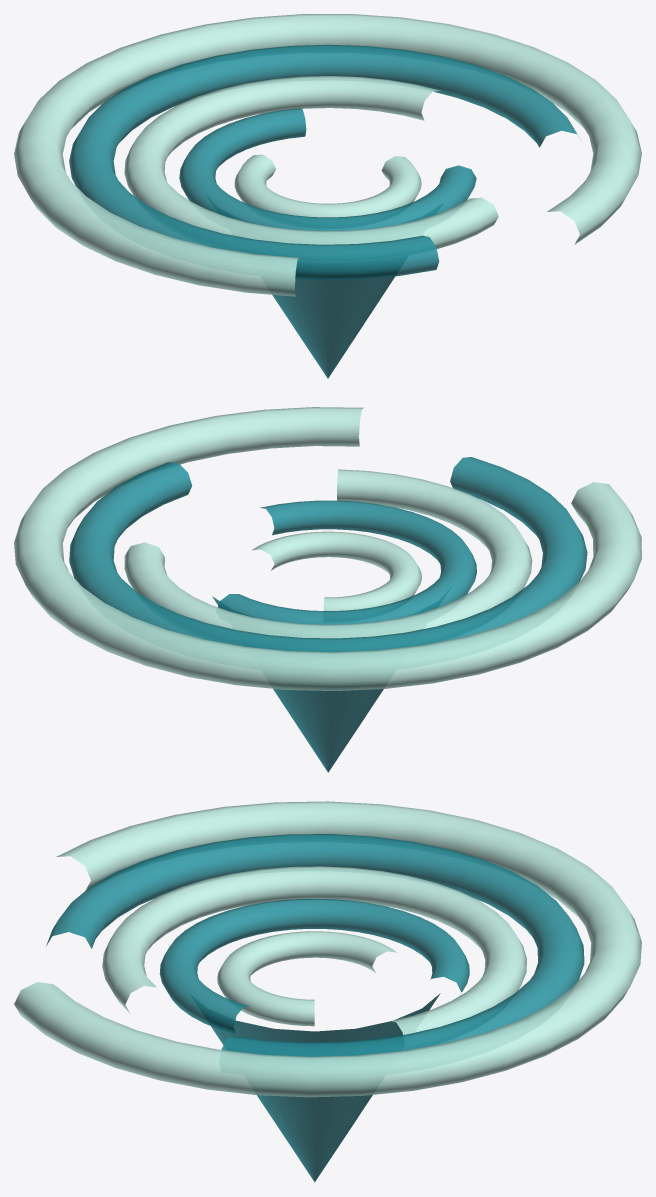
The model's file is whirlpool.glb.
The picture shows the model from 3 angles, top to bottom: view 1: azimuth 30°, elevation 25°; view 2: azimuth 150°, elevation 25°; view 3: azimuth 270°, elevation 25°; orthographic projection. The views are drawn at different scales.
Parts seen in each view (by area): view 1: Whirlpool_SeaFoam_0, Whirlpool_WhirlpoolWater_1; view 2: Whirlpool_SeaFoam_0, Whirlpool_WhirlpoolWater_1; view 3: Whirlpool_SeaFoam_0, Whirlpool_WhirlpoolWater_1.
Part boxes in pixels (left/top/right/bottom): Whirlpool_SeaFoam_0: left=14, top=14, right=641, bottom=296; Whirlpool_WhirlpoolWater_1: left=69, top=44, right=580, bottom=378; Whirlpool_SeaFoam_0: left=14, top=407, right=641, bottom=690; Whirlpool_WhirlpoolWater_1: left=69, top=457, right=587, bottom=772; Whirlpool_SeaFoam_0: left=14, top=801, right=641, bottom=1097; Whirlpool_WhirlpoolWater_1: left=46, top=834, right=584, bottom=1182.
Bounding box in the file's own units: 1.78 × 0.7518 × 1.7.
